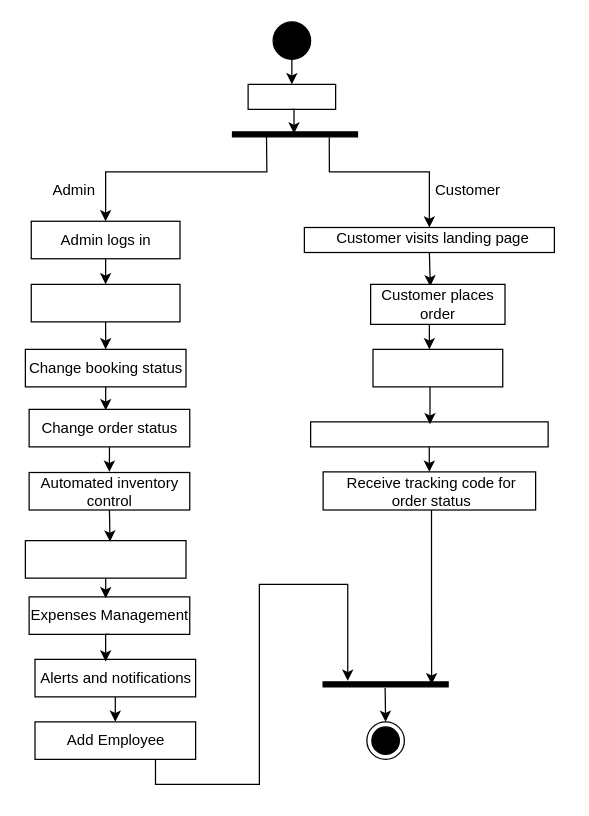
Some shapes in this 589 by 816 pixel diagram are drawn without their labels. The centre of each missing label's shape, as x and y in pixels:
Admin Dashboard: [105,302]
Automatic order receving: [105,558]
Check available time slots: [437,367]
Customer pays for the order: [428,434]
Main App: [291,96]
